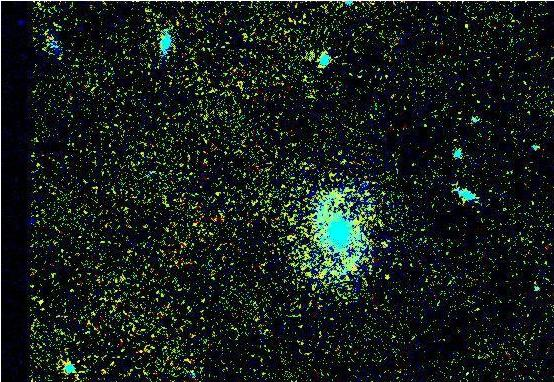star: (369, 228, 399, 258)
